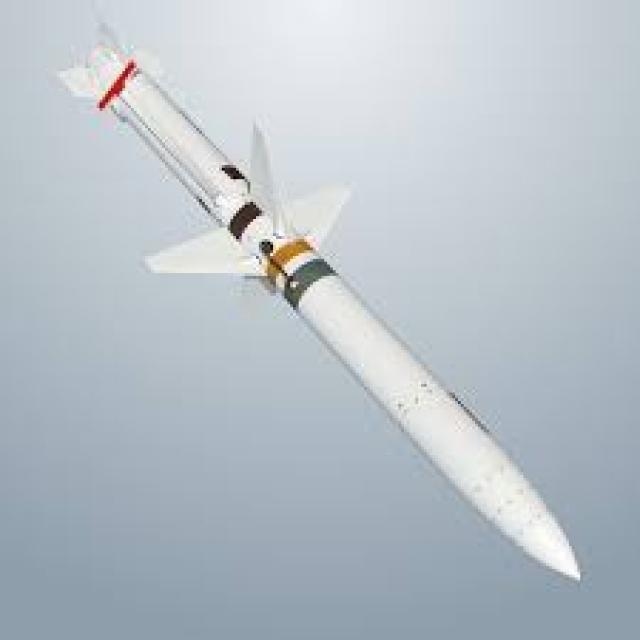missile: (60, 16, 589, 588)
